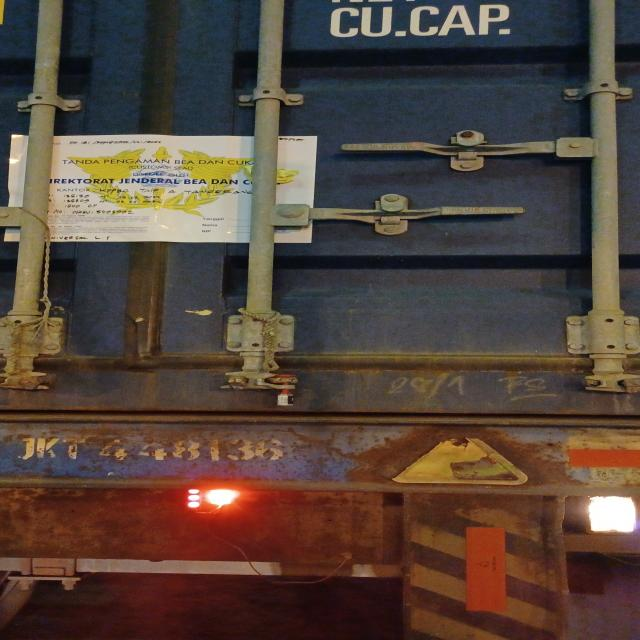seal: (276, 373, 298, 407)
